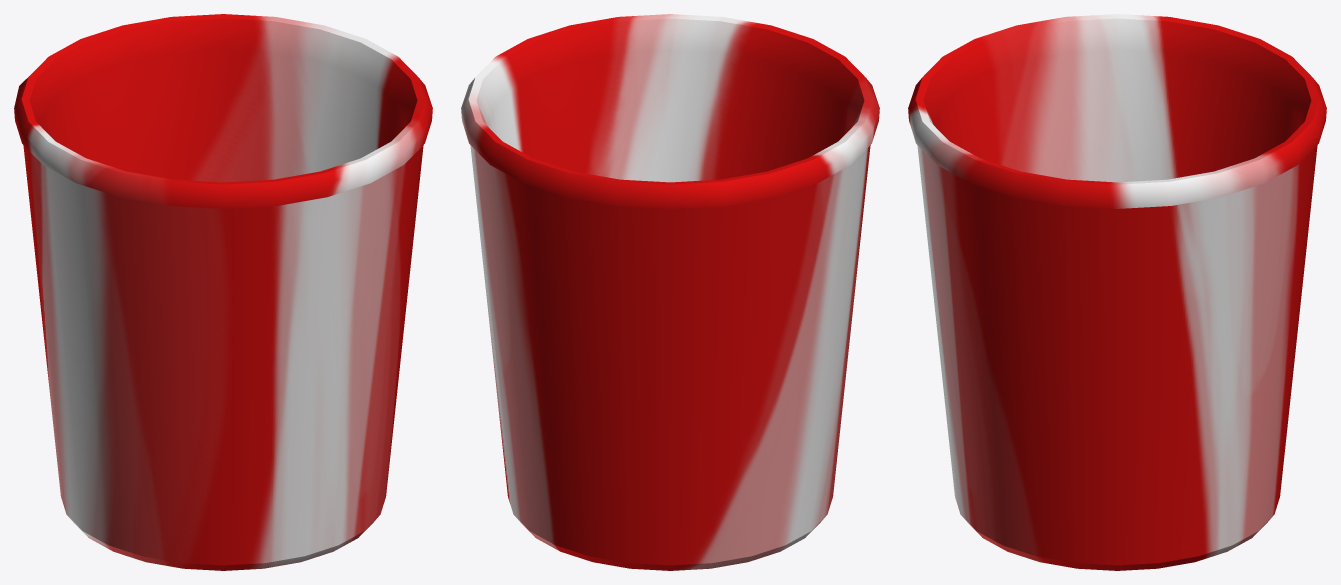
Rendered from handwash_bucket.FBX.
3 renders of one model, left to right at view 1: azimuth 30°, elevation 25°; view 2: azimuth 150°, elevation 25°; view 3: azimuth 270°, elevation 25°, orthographic.
Visible parts, largest first — view 1: handwash_bucket; view 2: handwash_bucket; view 3: handwash_bucket.
Part boxes in pixels (left/top/right/bottom): handwash_bucket: left=14, top=14, right=432, bottom=570; handwash_bucket: left=461, top=14, right=879, bottom=570; handwash_bucket: left=908, top=14, right=1326, bottom=570.
Bounding box in the file's own units: 17.77 × 19.01 × 17.77.
